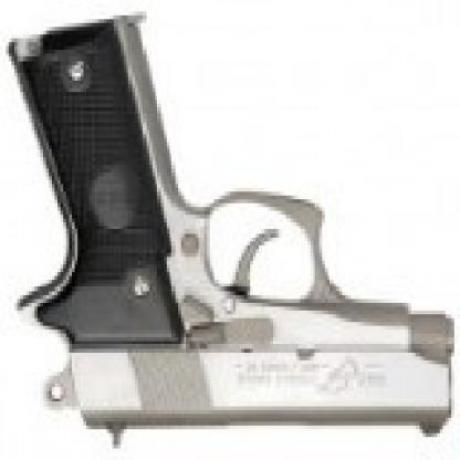weapon: (4, 12, 460, 452)
